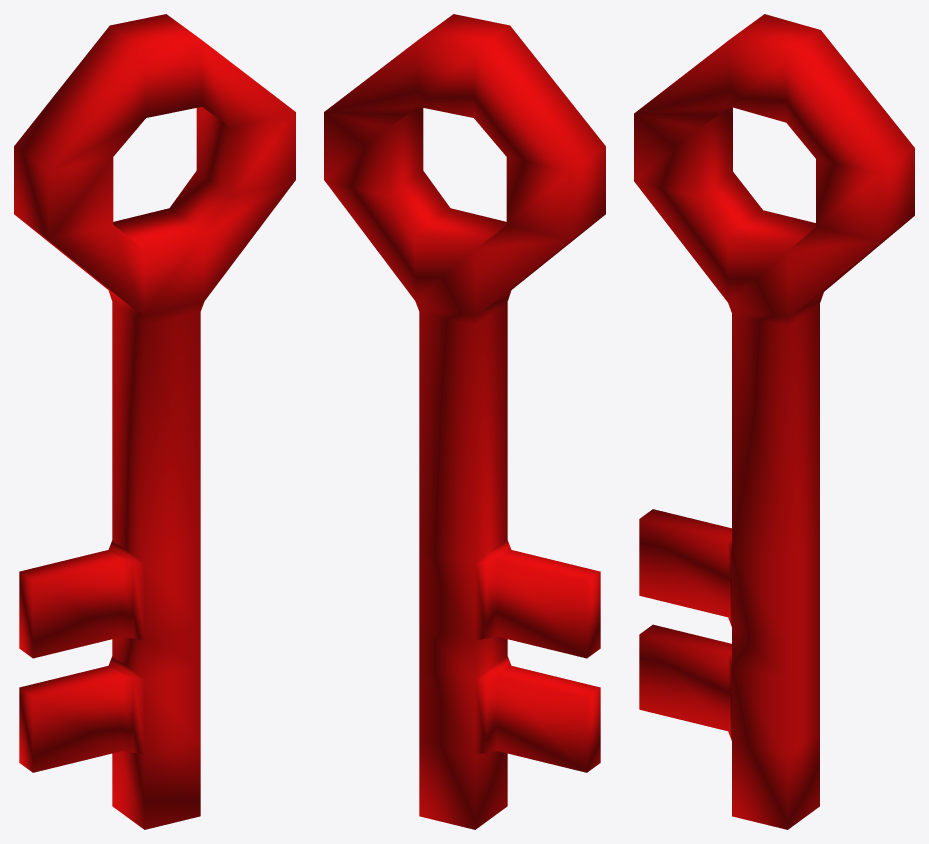
The model's file is Key.fbx.
The picture shows the model from 3 angles, left to right: view 1: azimuth 30°, elevation 25°; view 2: azimuth 150°, elevation 25°; view 3: azimuth 330°, elevation 25°; orthographic projection.
Parts seen in each view (by area): view 1: Cube; view 2: Cube; view 3: Cube.
Boxes of the visible parts, box(x1,y1,x2,y2) form: Cube: box(14, 14, 295, 829); Cube: box(324, 14, 605, 829); Cube: box(634, 14, 914, 829).
Size of the model in its own units: 238 by 702 by 57.55.
